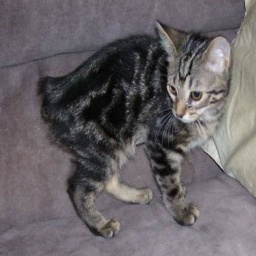cat: (32, 19, 236, 231)
